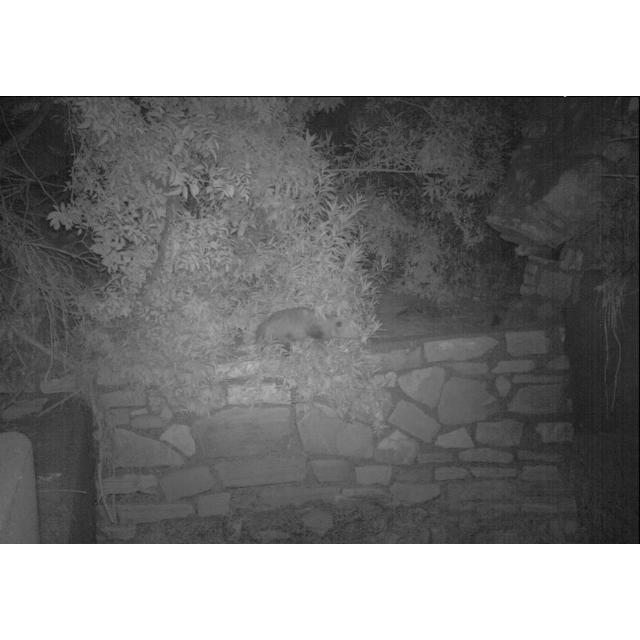animals: (250, 303, 332, 355)
